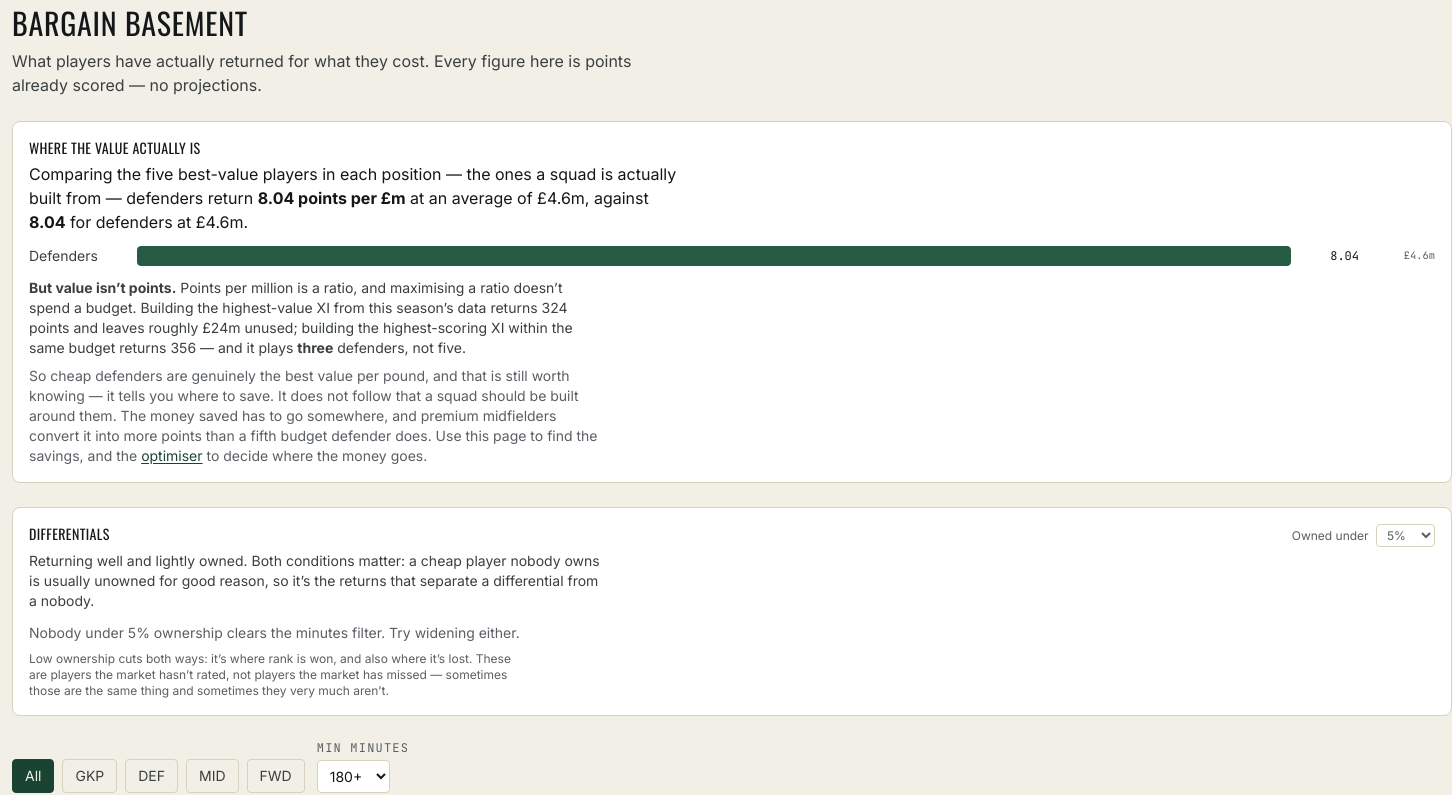
Test: ValuePage › filters out cameo players via the minutes floor
Expected: the text "Cameo" is not shown
Select "Any" in the dropdown showing "180+" at (353, 776), box x1=317 y1=760 x2=390 y2=793
(page scrolled)
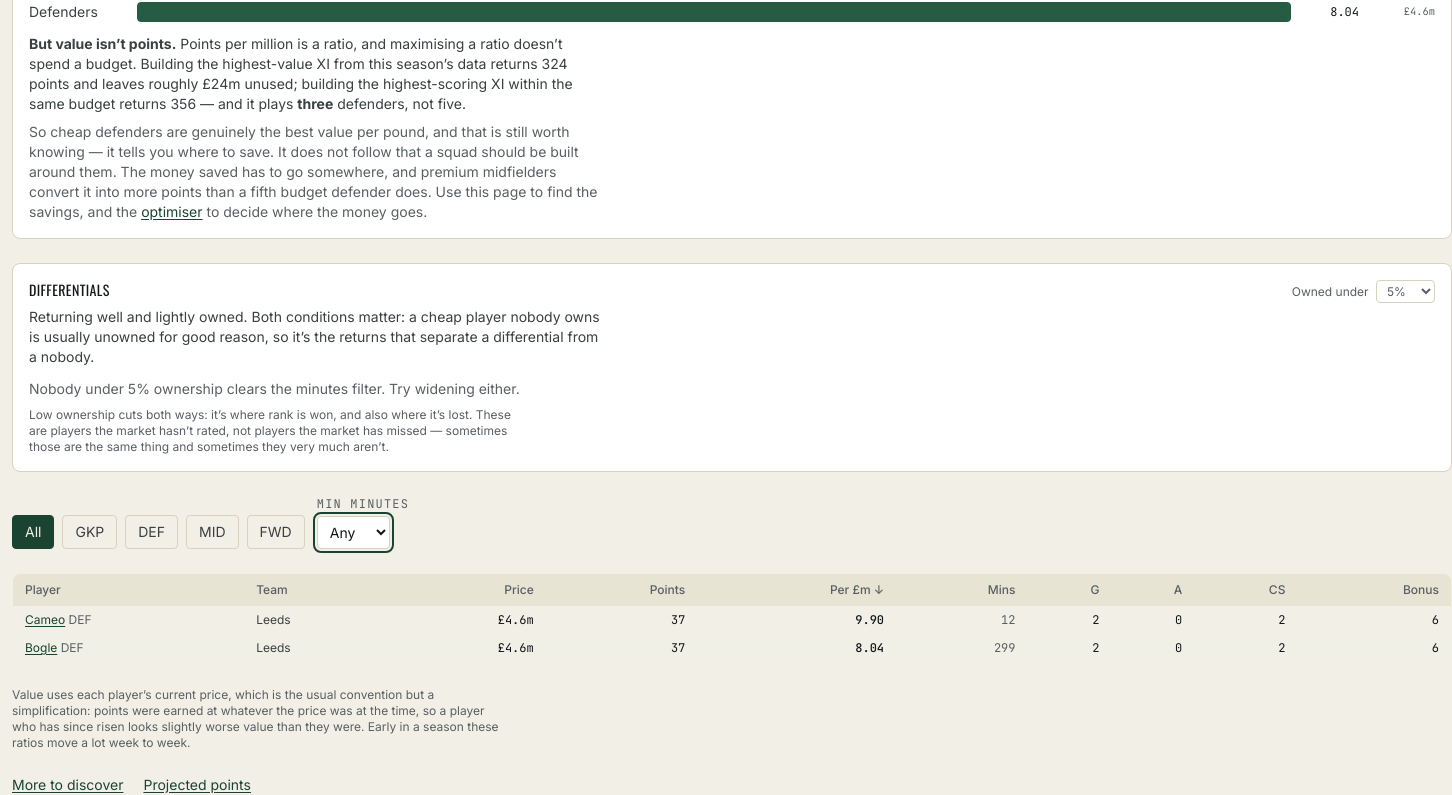
Expected: the link "Cameo" is shown, x1=25 y1=612 x2=65 y2=627
